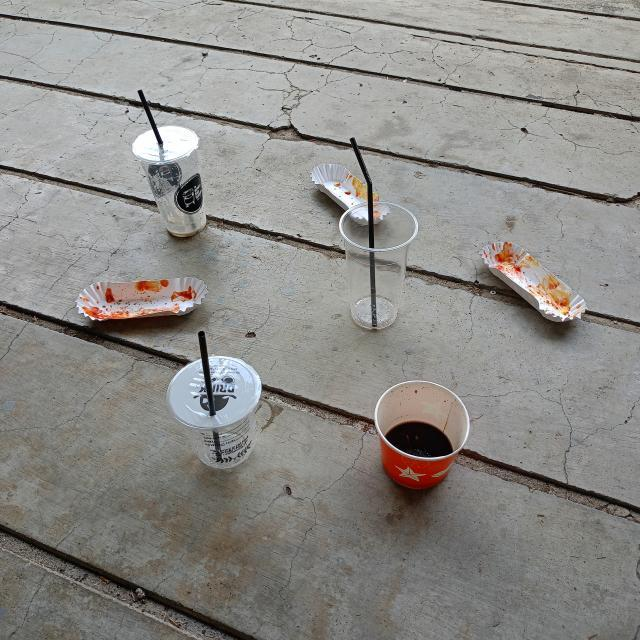recyclable waste: (367, 372, 476, 497), (162, 351, 268, 476), (333, 192, 422, 336), (127, 119, 218, 243), (472, 236, 592, 330), (71, 268, 214, 325), (303, 155, 396, 231)
